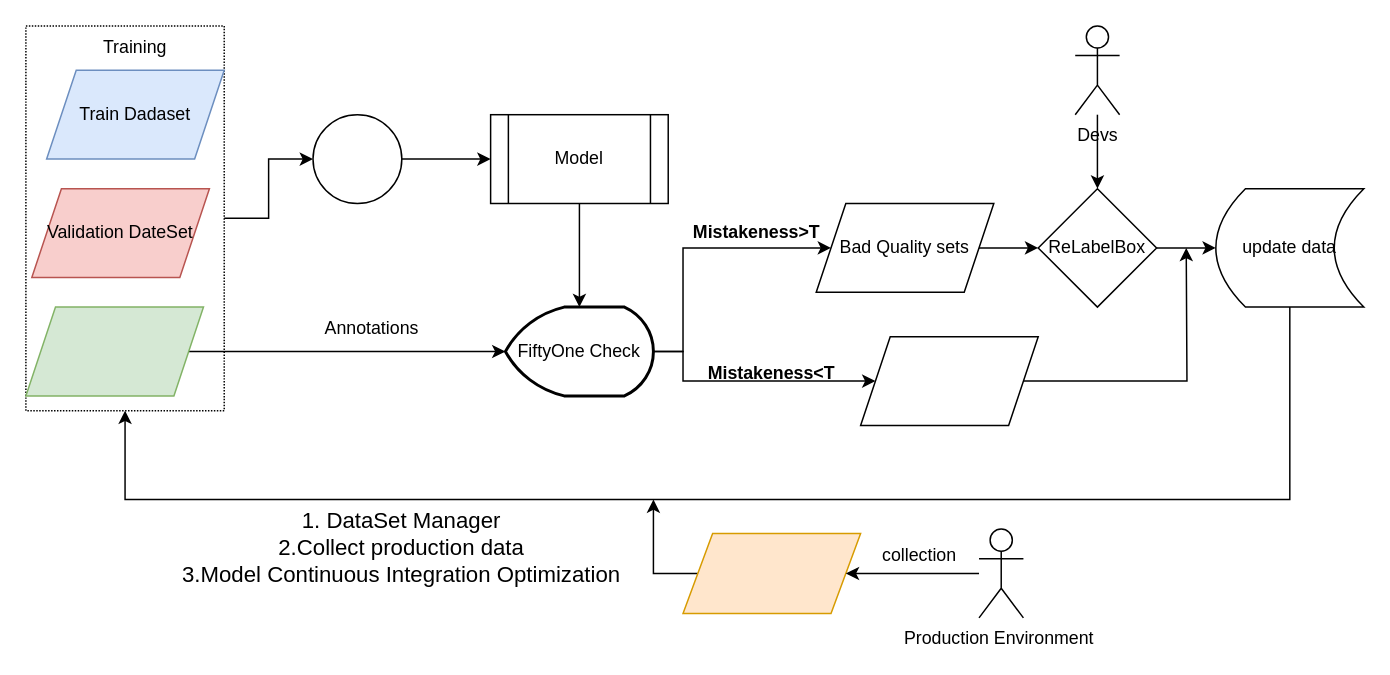
Image size: 1390x675. Some labels were removed from this diagram. Here are the shapes that lost their labels. From the top down, the centre of each, then its label:
the point at 357,158: Data Process
the point at 114,351: Test DateSet
the point at 948,380: Good Quality
the point at 771,572: Product DateSet
